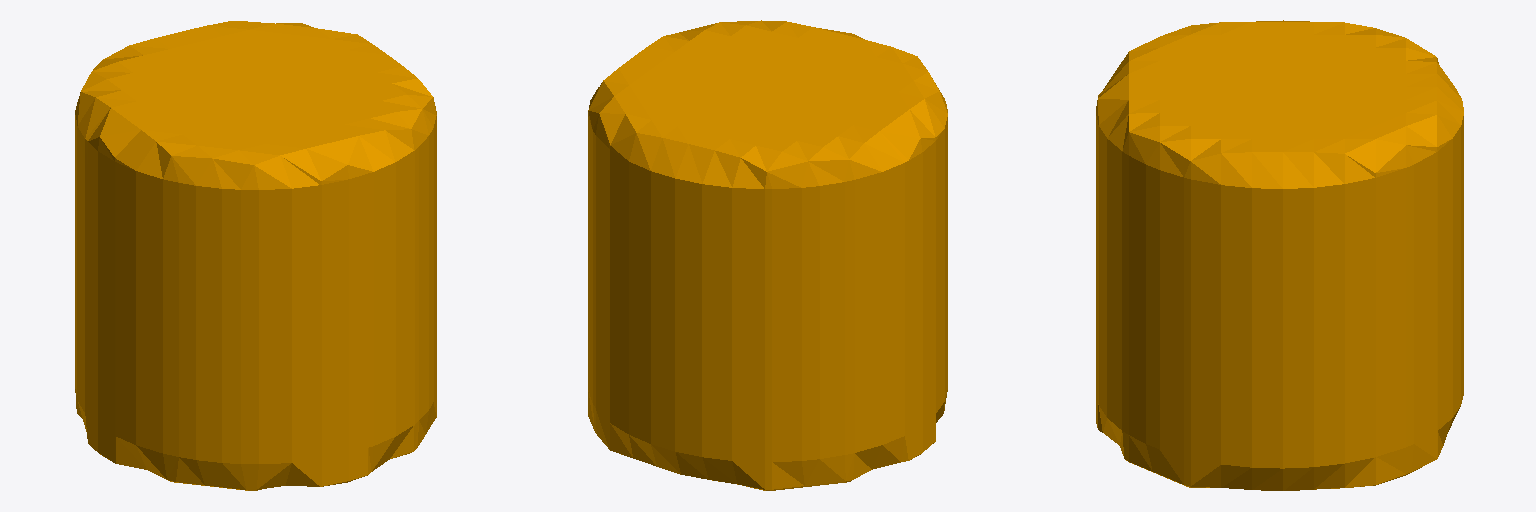
URDF robot description (cylinder_../../meshes/cylinders/cylinder_30.stl):
<?xml version="1.0" encoding="utf-8"?>  <robot name="cylinder_../../meshes/cylinders/cylinder_30.stl">   <link name="cylinder_../../meshes/cylinders/cylinder_30.stl">     <visual>       <geometry>         <mesh filename="../meshes/cylinders/cylinder_30.stl" scale="1 1 1"/>       </geometry>     </visual>     <collision>       <geometry>         <mesh filename="../meshes/cylinders/cylinder_30.stl" scale="1 1 1"/>       </geometry>     </collision>     <inertial>        <origin         xyz="0 0 0"         rpy="0 0 0" />       <mass value="0.1661674937852344"/>       <origin rpy="0 0 0" xyz="0 0 0"/>       <inertia ixx="8.570411883009251e-05" ixy="1.706506869447616e-08" ixz="-2.6373507745667628e-08" iyy="8.570129158077505e-05" iyz="-3.652897578704828e-08" izz="7.314148815002136e-05"/>     </inertial>   </link>  </robot>

--- Facts derived from the render (not from the file) ---
The picture shows the robot from 3 angles, left to right: view 1: azimuth 30°, elevation 25°; view 2: azimuth 150°, elevation 25°; view 3: azimuth 270°, elevation 25°; orthographic projection.
Model cylinder_../../meshes/cylinders/cylinder_30.stl with 1 links and 0 joints (none), rooted at cylinder_../../meshes/cylinders/cylinder_30.stl, posed all joints at 0.
Links seen in each view (by area): view 1: cylinder_../../meshes/cylinders/cylinder_30.stl; view 2: cylinder_../../meshes/cylinders/cylinder_30.stl; view 3: cylinder_../../meshes/cylinders/cylinder_30.stl.
Link boxes in pixels (x1,y1,x2,y2): cylinder_../../meshes/cylinders/cylinder_30.stl: (75,21,436,490); cylinder_../../meshes/cylinders/cylinder_30.stl: (588,20,947,490); cylinder_../../meshes/cylinders/cylinder_30.stl: (1096,20,1463,490).
Size in the robot's own frame: 0.0598 by 0.0598 by 0.0602 metres.
1 mesh visuals loaded from 1 distinct referenced files (1 binary STL).